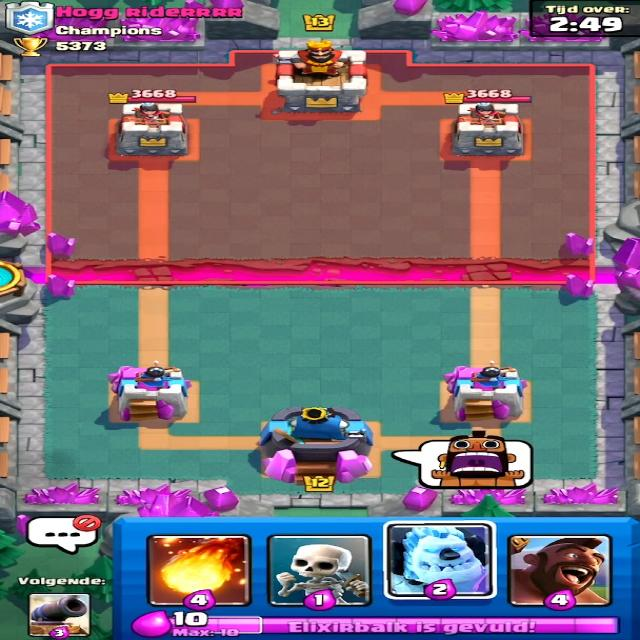Fireball_Card: (146, 536, 247, 605)
Hog_Rider_Card: (510, 536, 612, 609)
Ice_Golem_Card: (390, 524, 490, 604)
Skeleton_Card: (283, 538, 363, 604)
